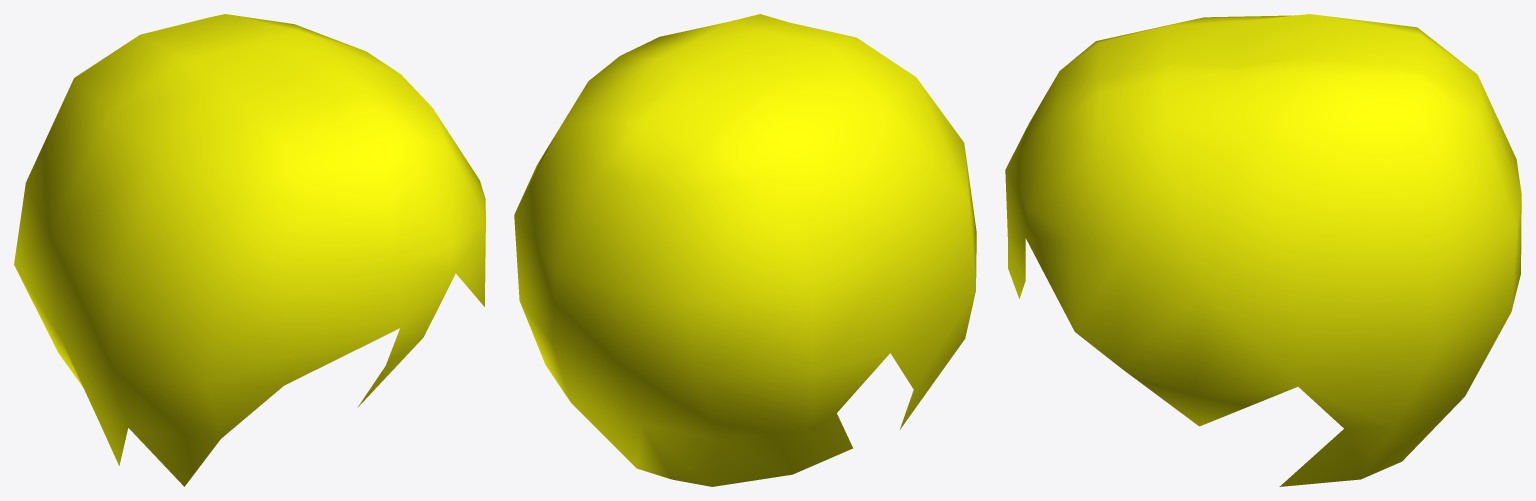
File: hair_pixie.glb
3 renders of one model, left to right at view 1: azimuth 30°, elevation 25°; view 2: azimuth 150°, elevation 25°; view 3: azimuth 270°, elevation 25°, orthographic. The views are drawn at different scales.
Visible parts, largest first — view 1: PixieCut; view 2: PixieCut; view 3: PixieCut.
Boxes of the visible parts, <box> form: PixieCut: <box>14,14,485,486</box>; PixieCut: <box>514,14,976,486</box>; PixieCut: <box>1005,14,1521,486</box>.
Size of the model in its own units: 0.5917 by 0.5546 by 0.6466.
1 material, 1 textured.
